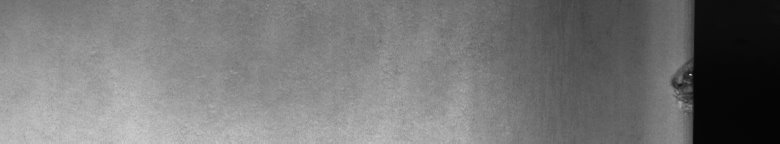hb: (664, 64, 680, 108)
